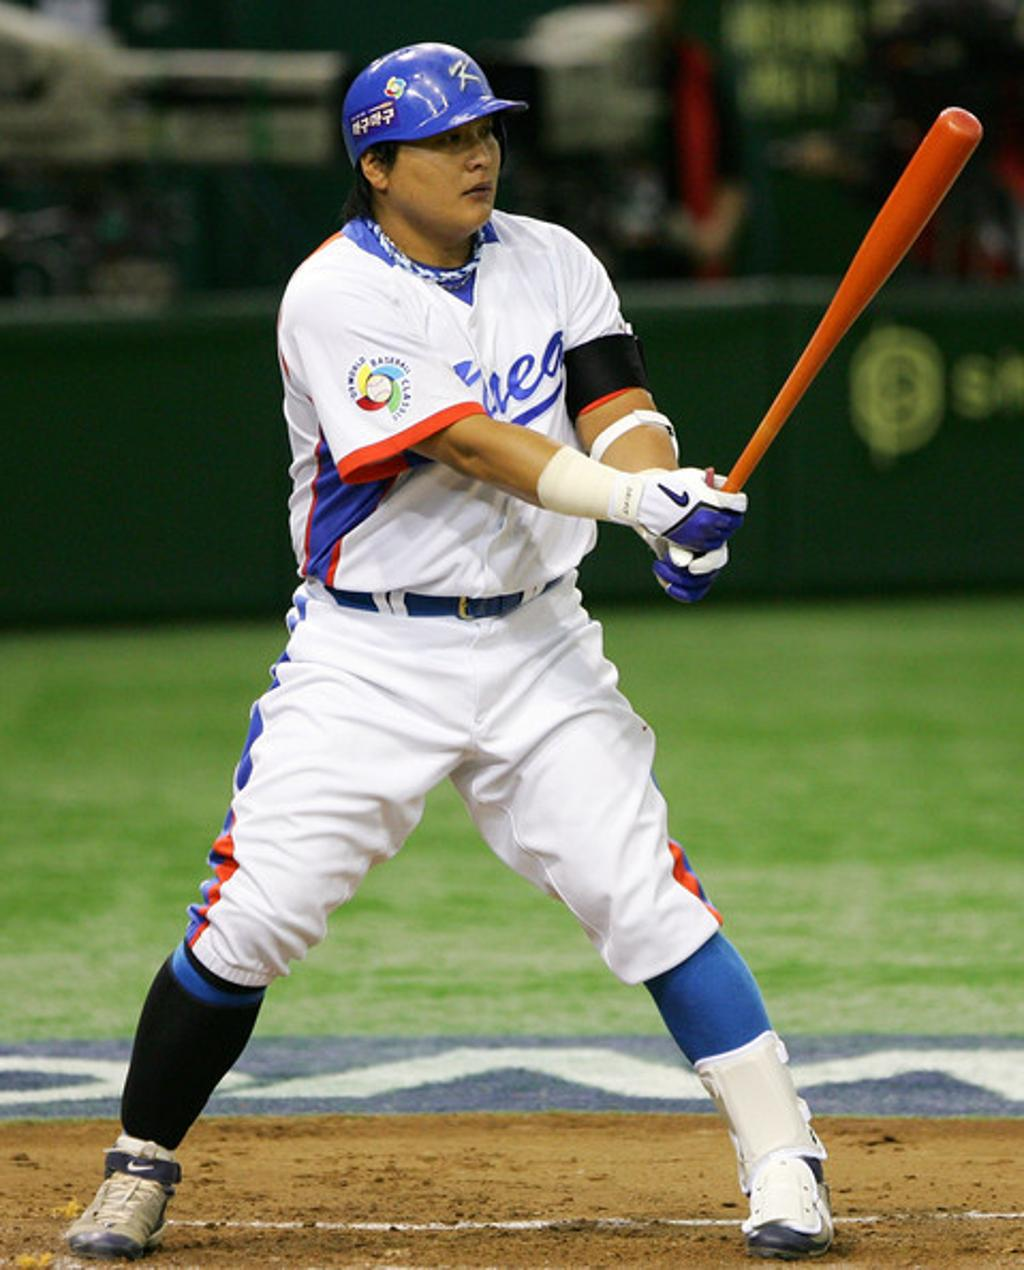face: (393, 95, 507, 234)
